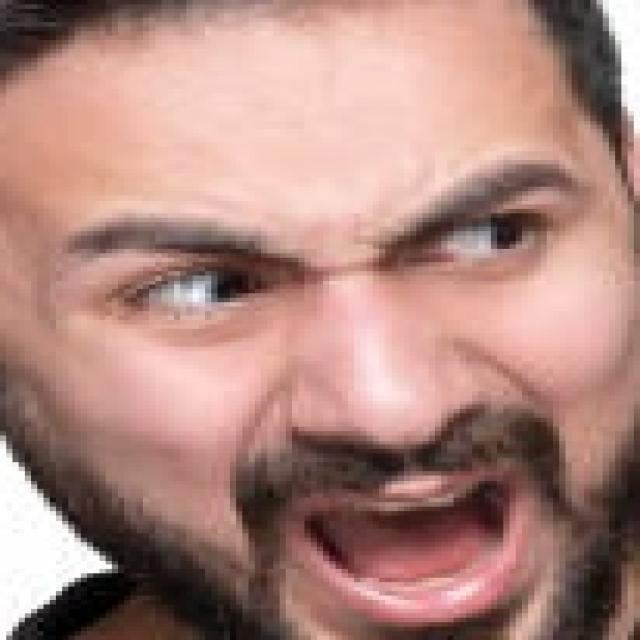Anxiety: (6, 5, 640, 636)
